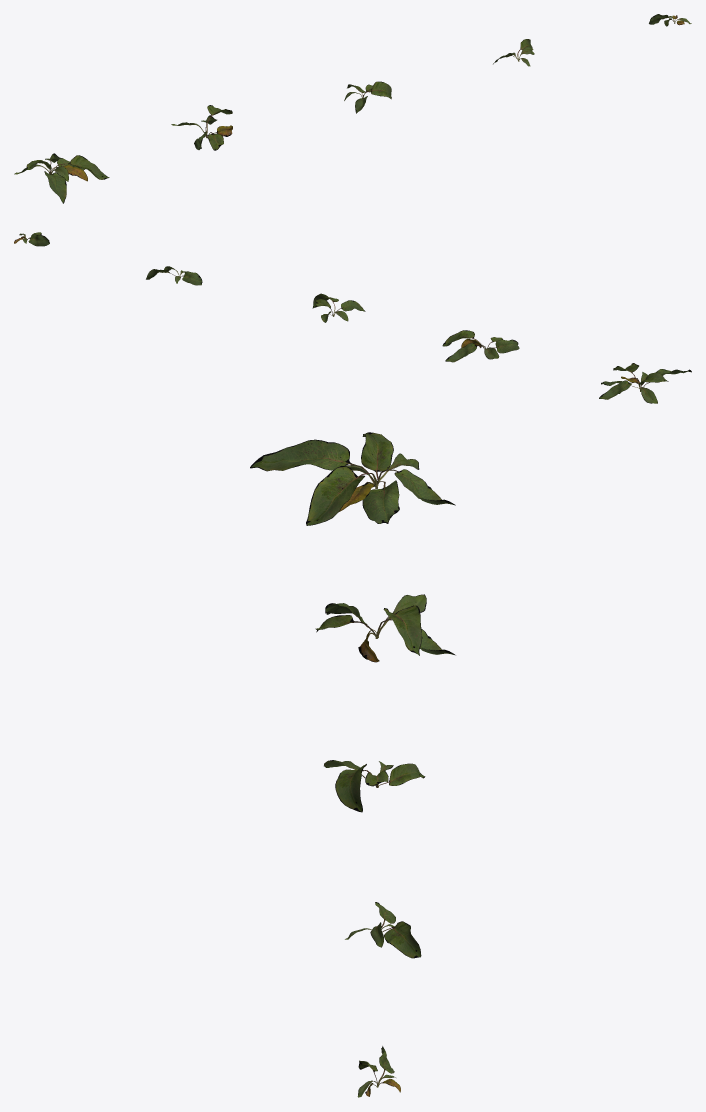
The model's file is weed-plant.glb.
3 views of the same model, one above another, from view 1: azimuth 30°, elevation 25°; view 2: azimuth 150°, elevation 25°; view 3: azimuth 270°, elevation 25° (orthographic). The views are drawn at different scales.
Visible parts, largest first — view 1: weed_plant_02_a_LOD0, weed_plant_02_b_LOD0, weed_plant_02_c_LOD0, weed_plant_02_d_LOD0; view 2: weed_plant_02_a_LOD0, weed_plant_02_b_LOD0, weed_plant_02_c_LOD0, weed_plant_02_d_LOD0, weed_plant_02_e_LOD0; view 3: weed_plant_02_a_LOD0, weed_plant_02_b_LOD0, weed_plant_02_c_LOD0, weed_plant_02_d_LOD0.
Boxes of the visible parts, x1,y1,x2,y2 form: weed_plant_02_a_LOD0: (14,153,109,203); weed_plant_02_b_LOD0: (171,105,232,150); weed_plant_02_c_LOD0: (344,81,391,113); weed_plant_02_d_LOD0: (493,39,534,66); weed_plant_02_a_LOD0: (599,363,691,403); weed_plant_02_b_LOD0: (442,330,519,362); weed_plant_02_c_LOD0: (312,293,365,322); weed_plant_02_d_LOD0: (146,266,202,285); weed_plant_02_e_LOD0: (14,232,49,246); weed_plant_02_a_LOD0: (250,432,455,525); weed_plant_02_b_LOD0: (315,594,455,662); weed_plant_02_c_LOD0: (324,760,425,812); weed_plant_02_d_LOD0: (345,902,421,958).
Size of the model in its own units: 2.13 by 0.0751 by 0.2909.
1 material, 1 textured.
